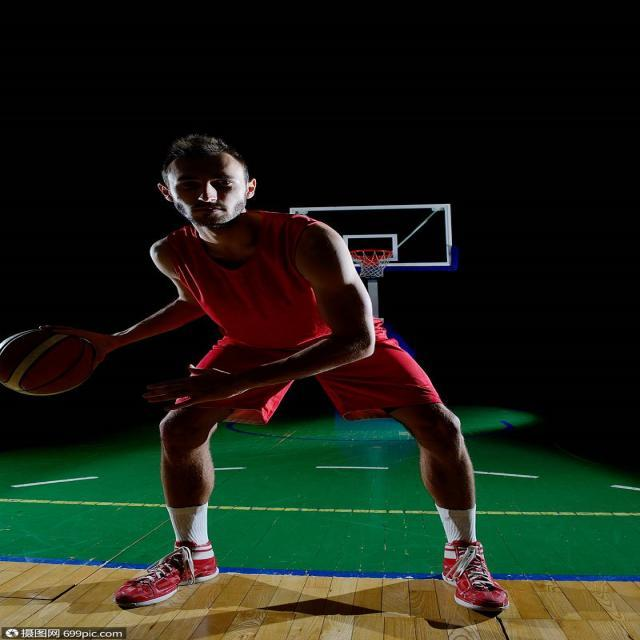rim: (0, 328, 94, 396)
